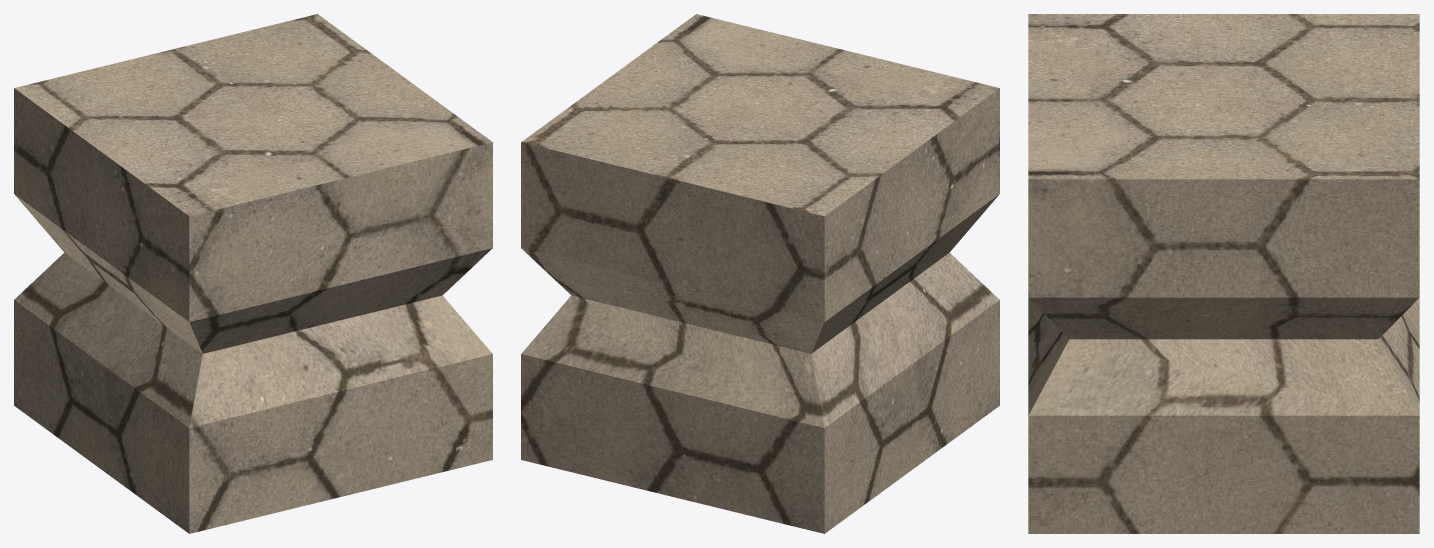
The model's file is Character.glb.
3 views of the same model, side by side, from view 1: azimuth 30°, elevation 25°; view 2: azimuth 150°, elevation 25°; view 3: azimuth 270°, elevation 25° (orthographic). The views are drawn at different scales.
Parts seen in each view (by area): view 1: Cube; view 2: Cube; view 3: Cube.
Part boxes in pixels (box(x1,y1,x2,y2)): Cube: box(14, 14, 492, 533); Cube: box(521, 14, 999, 533); Cube: box(1028, 14, 1419, 533).
Size of the model in its own units: 0.8245 by 0.8245 by 0.8245.
1 material, 1 textured.
